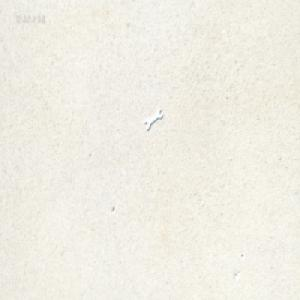Wrench: (144, 108, 163, 130)
